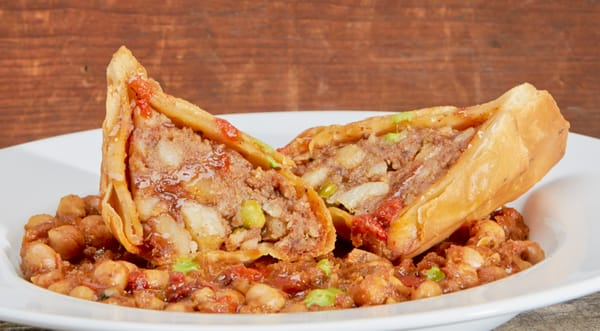soup: (276, 83, 571, 268)
